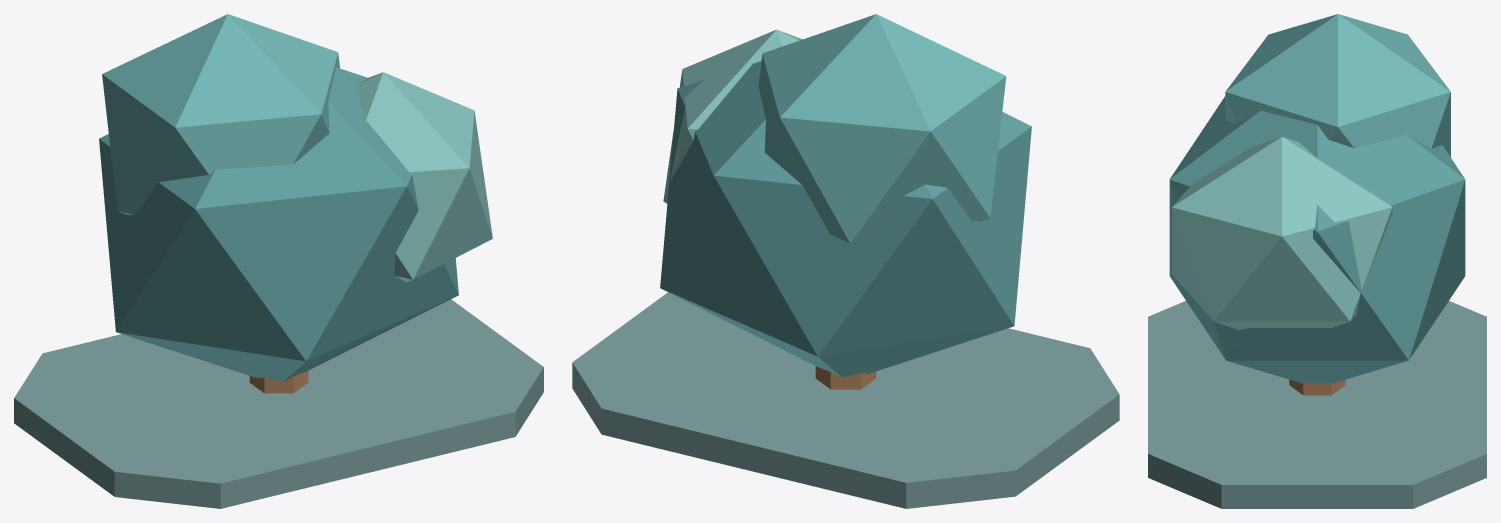
The model's file is campus_bush_round_v01.glb.
3 renders of one model, left to right at view 1: azimuth 30°, elevation 25°; view 2: azimuth 150°, elevation 25°; view 3: azimuth 270°, elevation 25°, orthographic. The views are drawn at different scales.
Parts seen in each view (by area): view 1: campus_bush_round; view 2: campus_bush_round; view 3: campus_bush_round.
Boxes of the visible parts, left/top/right/bottom form: campus_bush_round: left=14, top=14, right=543, bottom=508; campus_bush_round: left=572, top=14, right=1119, bottom=508; campus_bush_round: left=1148, top=14, right=1486, bottom=508.
Size of the model in its own units: 1.6 by 1.41 by 1.15.
Materials: 1 (1 with a texture image).
